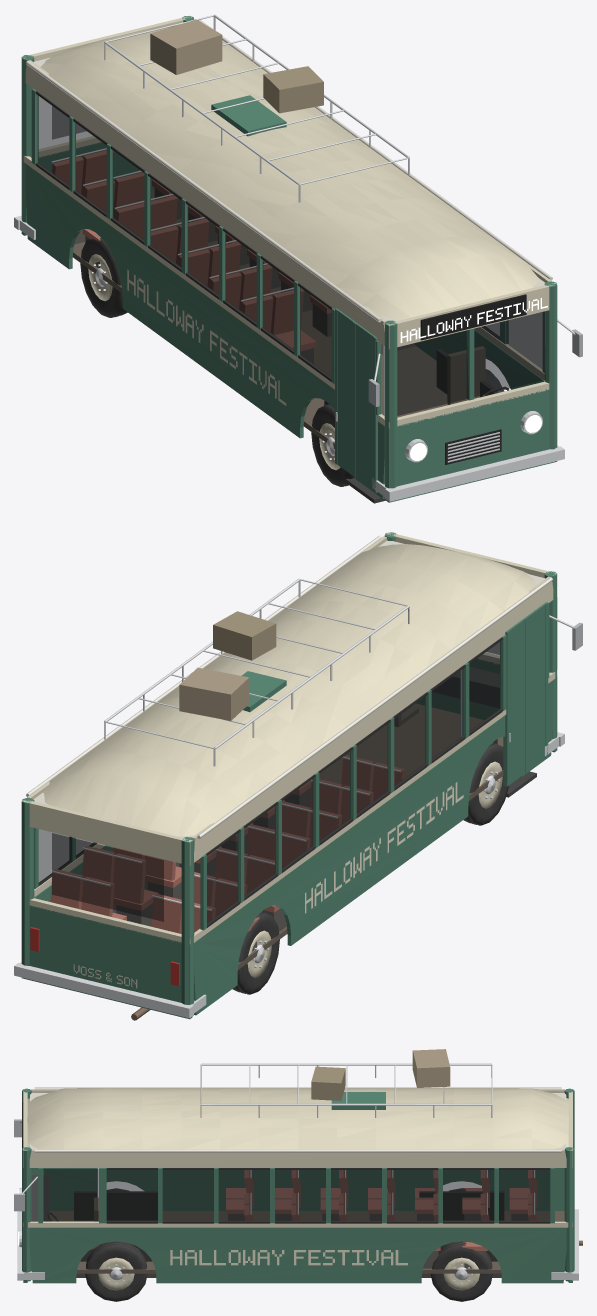
The model's file is festival_bus_restored.glb.
3 views of the same model, one above another, from view 1: azimuth 30°, elevation 25°; view 2: azimuth 150°, elevation 25°; view 3: azimuth 270°, elevation 25° (orthographic). The views are drawn at different scales.
Parts seen in each view (by area): view 1: body, door, destination_board, wheel_rr, wheel_fr; view 2: body, door, wheel_rr, wheel_fr; view 3: body, wheel_fl, wheel_rl.
Part boxes in pixels (bbox=[...]): body: bbox=[14, 14, 582, 503]; door: bbox=[335, 308, 377, 492]; destination_board: bbox=[400, 294, 547, 342]; wheel_rr: bbox=[80, 238, 127, 317]; wheel_fr: bbox=[311, 404, 353, 486]; body: bbox=[14, 532, 582, 1020]; door: bbox=[503, 602, 548, 786]; wheel_rr: bbox=[232, 912, 279, 994]; wheel_fr: bbox=[463, 743, 508, 825]; body: bbox=[14, 1049, 582, 1283]; wheel_fl: bbox=[85, 1241, 147, 1301]; wheel_rl: bbox=[430, 1241, 492, 1301].
Size of what is drawn, in the model's own units: 2.95 by 3.82 by 9.39.
